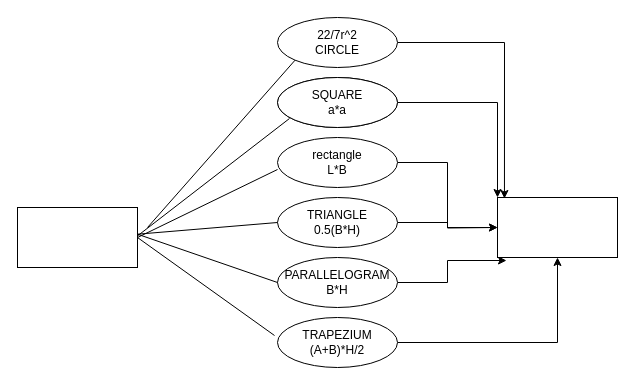
This 635x385 diagram has some shape labels left out. The shapes that lost their labels are listed below. From the top down, each one's centre as x and y in pixels, then its label:
At [77,237]: "USER INPUT".
At [557,227]: "Terminal output.".
